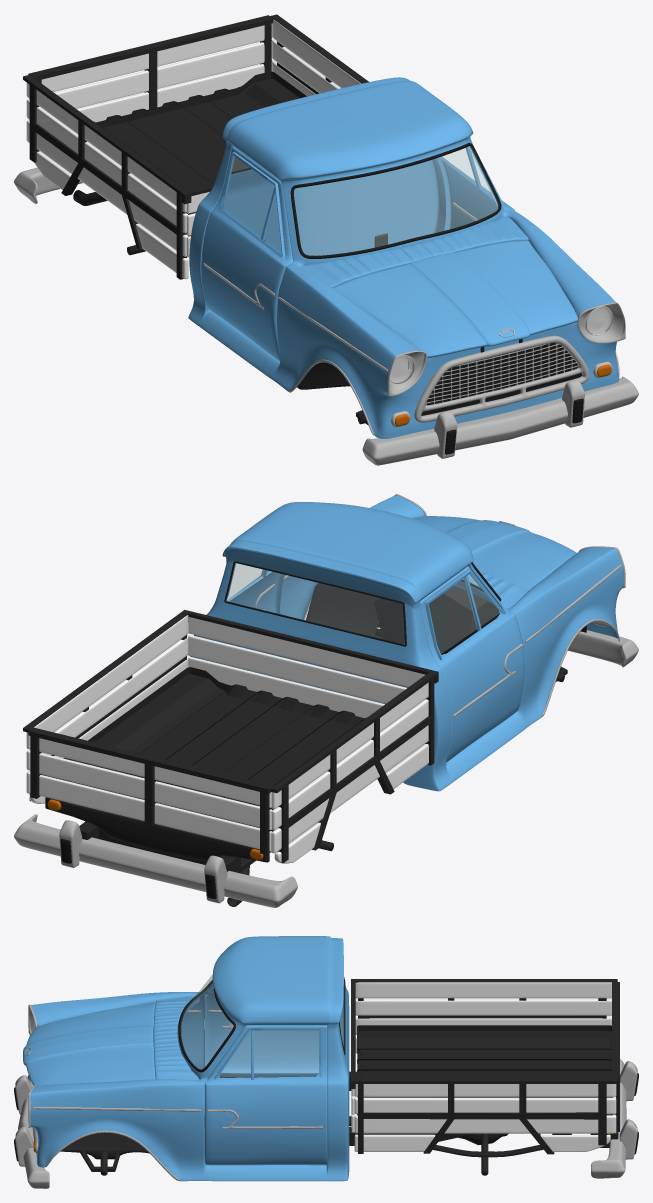
Rendered from _Rastrojero01.glb.
The picture shows the model from 3 angles, top to bottom: view 1: azimuth 30°, elevation 25°; view 2: azimuth 150°, elevation 25°; view 3: azimuth 270°, elevation 25°; orthographic projection. The views are drawn at different scales.
Visible parts, largest first — view 1: Pintura, Chapa, Madera, Metal, Vidrio, Goma, VidrioLuces; view 2: Pintura, Chapa, Madera, Metal, Vidrio, Goma; view 3: Pintura, Chapa, Madera, Vidrio, Metal, Goma.
Part boxes in pixels (x1=…): Pintura: x1=188, y1=77, x2=619, y2=438; Chapa: x1=23, y1=14, x2=582, y2=425; Madera: x1=26, y1=19, x2=361, y2=279; Metal: x1=14, y1=167, x2=638, y2=465; Vidrio: x1=224, y1=146, x2=498, y2=255; Goma: x1=231, y1=143, x2=583, y2=454; VidrioLuces: x1=389, y1=306, x2=612, y2=383; Pintura: x1=190, y1=495, x2=623, y2=791; Chapa: x1=23, y1=583, x2=586, y2=906; Madera: x1=26, y1=615, x2=428, y2=863; Metal: x1=14, y1=494, x2=638, y2=907; Vidrio: x1=227, y1=563, x2=498, y2=653; Goma: x1=60, y1=561, x2=501, y2=898; Pintura: x1=23, y1=936, x2=349, y2=1181; Chapa: x1=60, y1=979, x2=619, y2=1175; Madera: x1=351, y1=982, x2=616, y2=1151; Vidrio: x1=180, y1=974, x2=343, y2=1077; Metal: x1=15, y1=1004, x2=637, y2=1188; Goma: x1=14, y1=977, x2=638, y2=1161.
Size of the model in its own units: 1.88 by 1.44 by 4.64.
